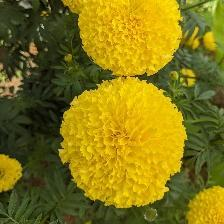marigold: (59, 78, 190, 217)
